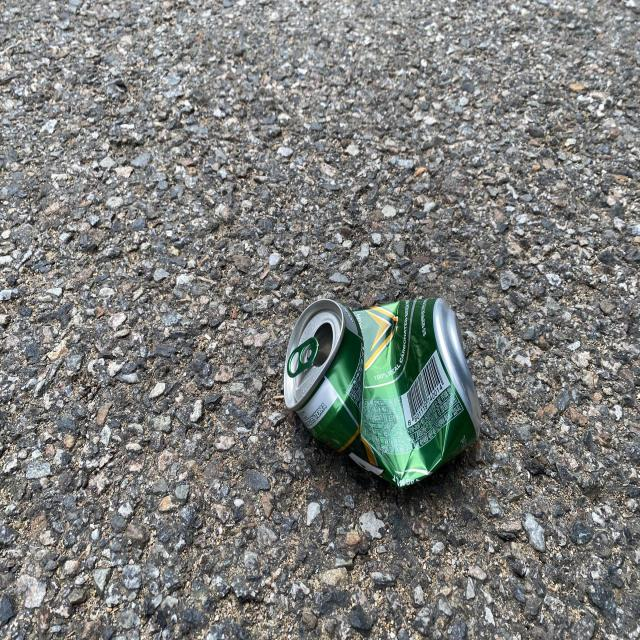can: (284, 298, 482, 487)
